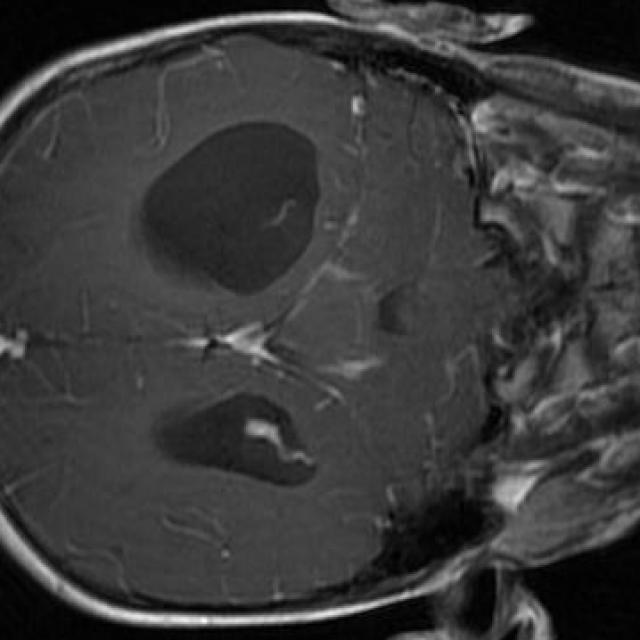glioma: (130, 123, 378, 374)
